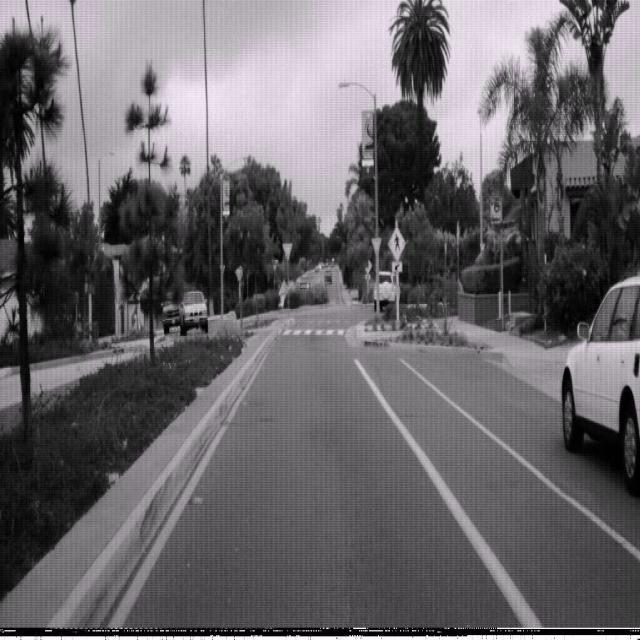pedestrianCrossing: (387, 224, 406, 262)
yield: (372, 236, 382, 256), (282, 242, 292, 261)
